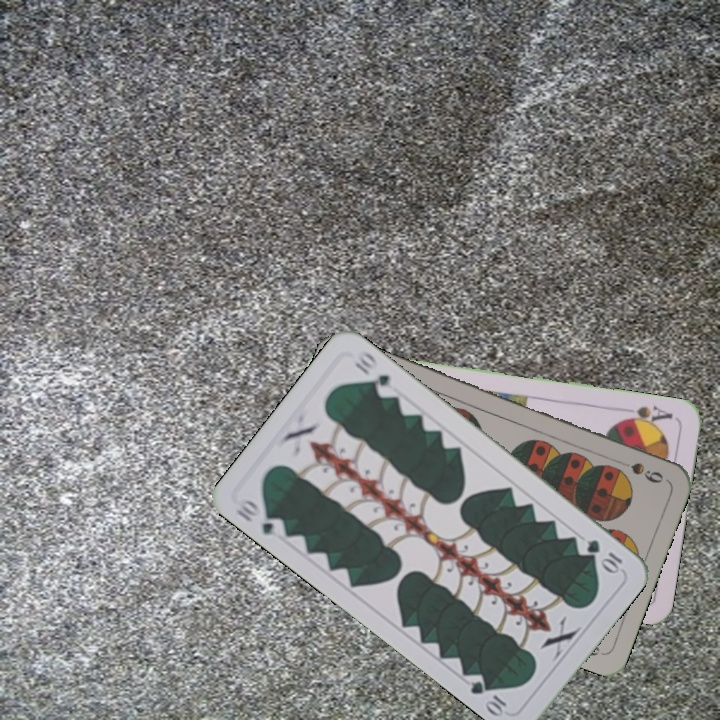G10: (230, 495, 288, 538), (582, 535, 625, 576)
S9: (610, 455, 666, 486)
SA: (616, 401, 676, 429)
